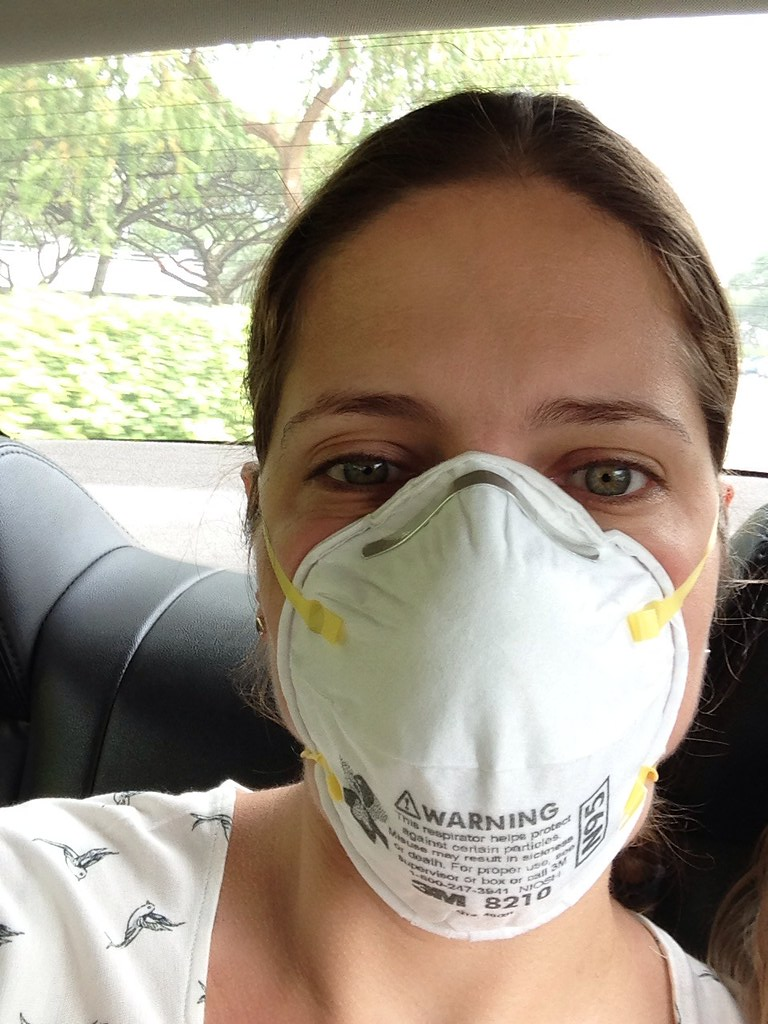n95: (268, 450, 702, 952)
